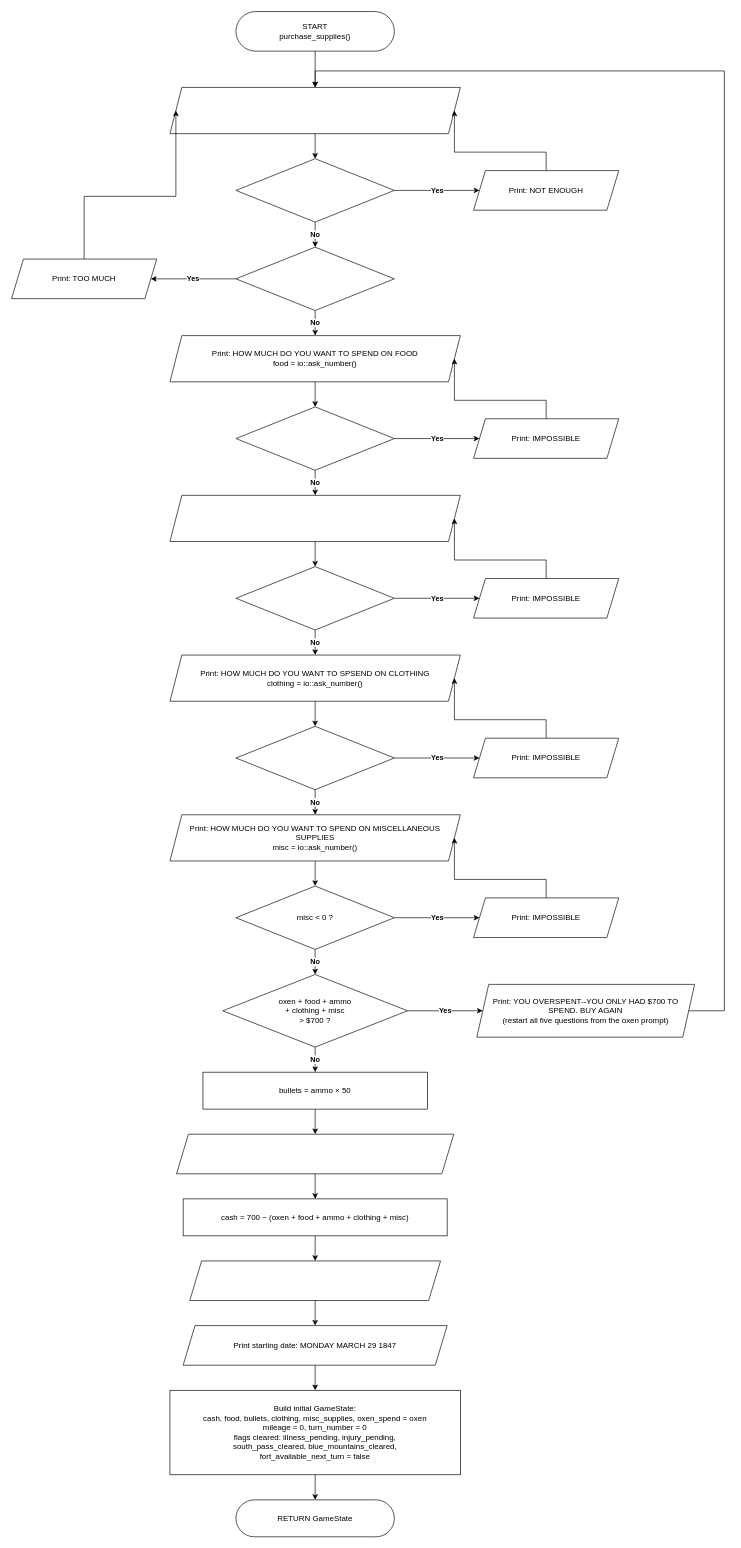
The diagram is 741 pixels wide and 1548 high, and some of its shapes have lost their labels. Here are the shapes that lost their labels. From the top down, the centre of each, then its label:
At [314,110]: "Print: HOW MUCH DO YOU WANT TO SPEND ON YOUR OXEN TEAM oxen = io::ask_number()".
At [314,190]: "oxen < $200 ?".
At [314,279]: "oxen > $300 ?".
At [314,438]: "food < 0 ?".
At [314,518]: "Print: HOW MUCH DO YOU WANT TO SPEND ON AMMUNITION ammo = io::ask_number()".
At [314,598]: "ammo < 0 ?".
At [314,758]: "clothing < 0 ?".
At [315,1154]: "Print: AFTER ALL YOUR PURCHASES, YOU NOW HAVE".
At [315,1280]: "Print cash, then: DOLLARS LEFT".
